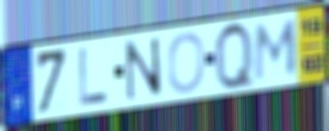7: (34, 46, 69, 117)
L: (77, 47, 110, 108)
M: (253, 17, 300, 84)
N: (123, 36, 165, 103)
O: (166, 30, 206, 96)
Q: (212, 19, 258, 93)
